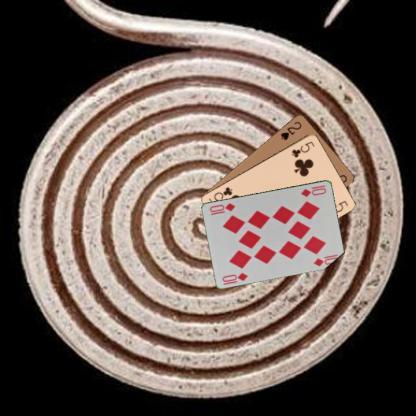10d: (298, 182, 328, 198), (220, 270, 249, 284)
2s: (277, 118, 303, 142)
5c: (290, 138, 316, 159)
